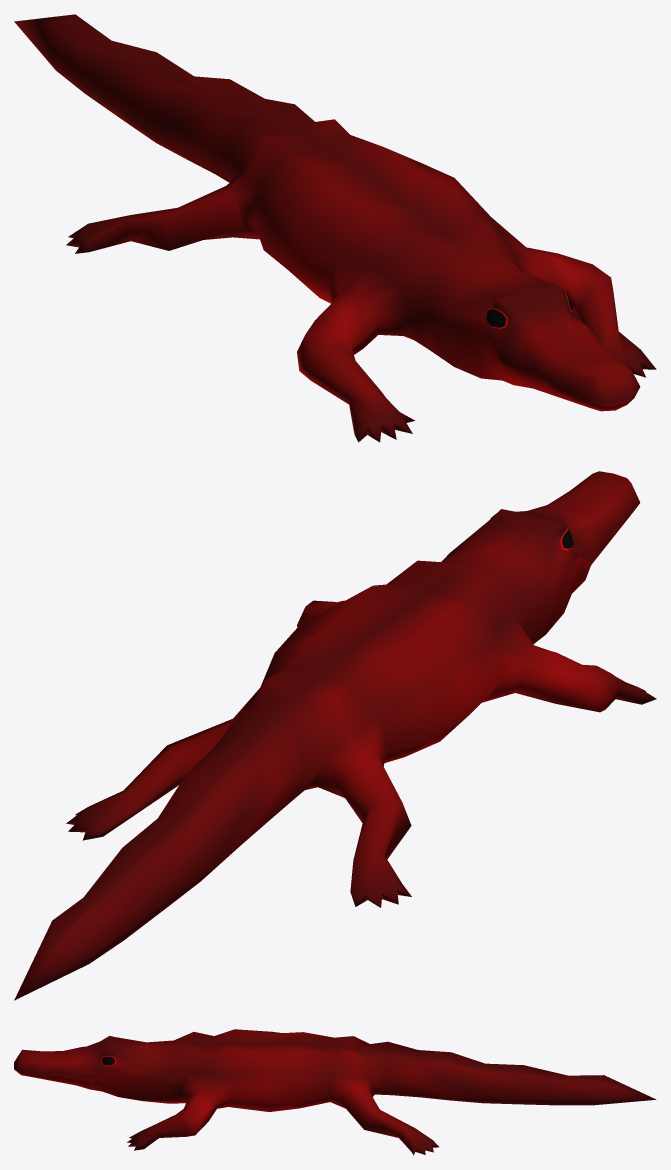
The model's file is Reptiles_Alligator.fbx.
The picture shows the model from 3 angles, top to bottom: view 1: azimuth 30°, elevation 25°; view 2: azimuth 150°, elevation 25°; view 3: azimuth 270°, elevation 25°; orthographic projection. The views are drawn at different scales.
Visible parts, largest first — view 1: base; view 2: base; view 3: base.
Boxes of the visible parts, left/top/right/bottom form: base: left=14, top=14, right=656, bottom=442; base: left=14, top=471, right=656, bottom=1000; base: left=14, top=1029, right=656, bottom=1155.
Size of the model in its own units: 173 by 67.29 by 540.
